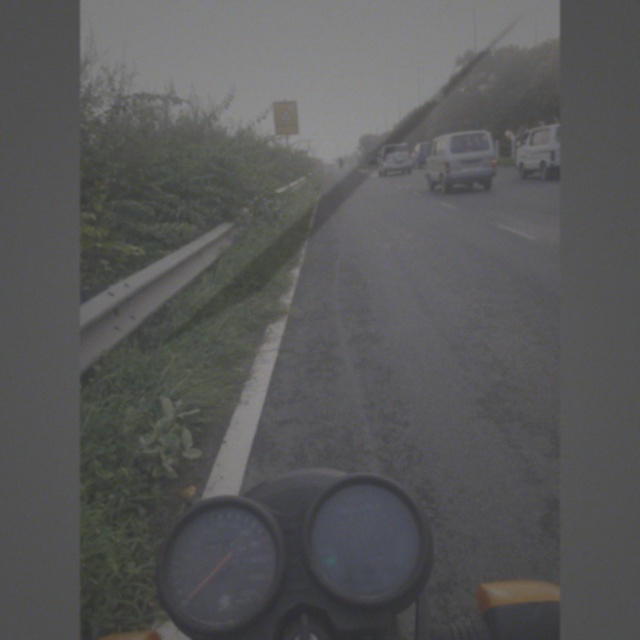Narrow_Bridge: (274, 102, 298, 131)
